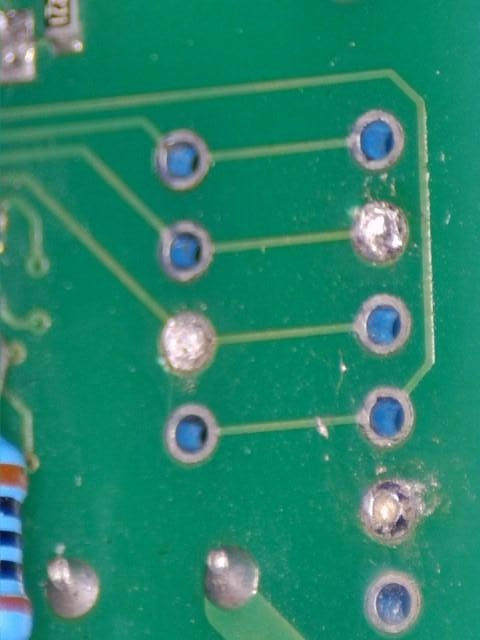pcb_defect: (351, 202, 408, 262), (162, 311, 212, 370), (362, 480, 412, 539)
